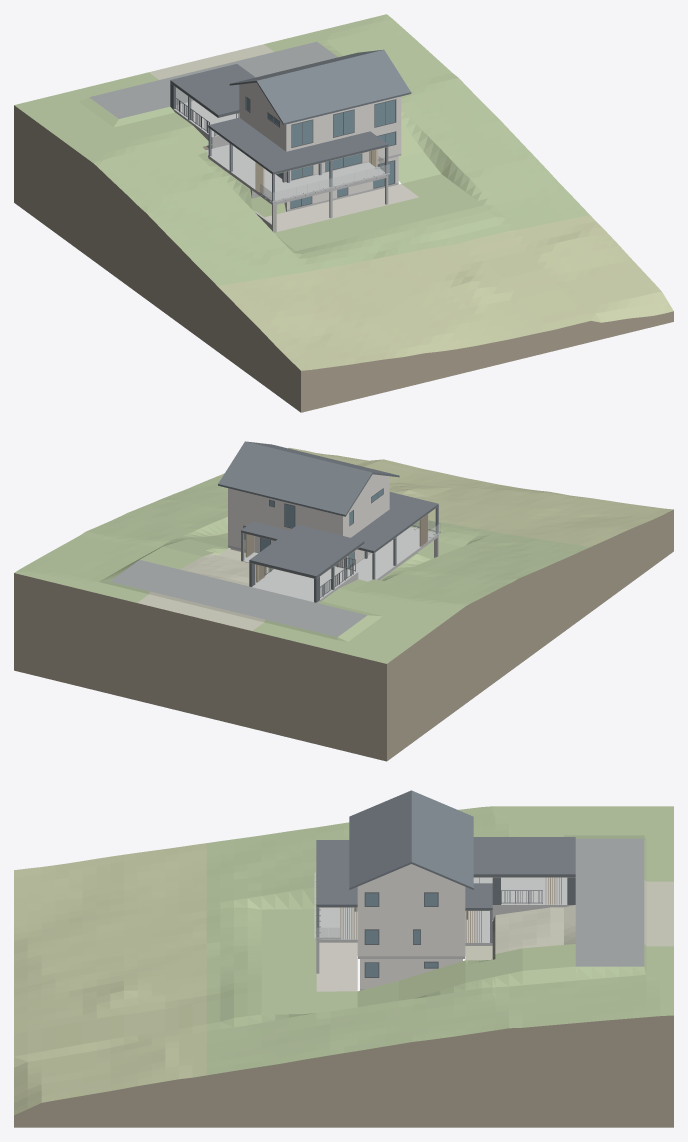
Rendered from Schaffernak_Haus_C.glb.
3 views of the same model, one above another, from view 1: azimuth 30°, elevation 25°; view 2: azimuth 150°, elevation 25°; view 3: azimuth 270°, elevation 25° (orthographic). The views are drawn at different scales.
Visible parts, largest first — view 1: Foto_Gelaende_Rasen_Boeschung, Foto_Gelaende_Hang_unten, Foto_Gelaende_Modellrand, Satteldach_0, Strasse_parallel_zum_Haus_schematisch, Foto_Gelaende_Kies_Kellerbereich, Entwurf_Dach_vorne, Carport_Dach, Balkon_vorne, Foto_Gelaende_Seitliche_Gruenflaeche, Entwurf_Dach_links, Foto_Gelaende_Rueckseite (+3 smaller); view 2: Foto_Gelaende_Modellrand, Foto_Gelaende_Rasen_Boeschung, Foto_Gelaende_Hang_unten, Strasse_parallel_zum_Haus_schematisch, Satteldach_1, Foto_Gelaende_Rueckseite, Carport_Dach, Foto_Gelaende_Seitliche_Gruenflaeche, Carport_Boden, Entwurf_Dach_links, Balkon_links, OG_back_Wand4 (+5 smaller); view 3: Foto_Gelaende_Rasen_Boeschung, Foto_Gelaende_Modellrand, Foto_Gelaende_Hang_unten, Strasse_parallel_zum_Haus_schematisch, Foto_Gelaende_Rueckseite, Foto_Gelaende_Seitliche_Gruenflaeche, Satteldach_0, Satteldach_1, Carport_Dach, Entwurf_Dach_vorne, Foto_Gelaende_Kies_Kellerbereich, Carport_Boden (+9 smaller).
Part boxes in pixels (x1,y1,x2,y2): Foto_Gelaende_Rasen_Boeschung: [14, 14, 589, 285]; Foto_Gelaende_Hang_unten: [217, 215, 673, 370]; Foto_Gelaende_Modellrand: [14, 105, 673, 412]; Satteldach_0: [256, 50, 411, 124]; Strasse_parallel_zum_Haus_schematisch: [89, 41, 337, 118]; Foto_Gelaende_Kies_Kellerbereich: [265, 184, 418, 231]; Entwurf_Dach_vorne: [255, 131, 388, 174]; Carport_Dach: [171, 64, 254, 114]; Balkon_vorne: [255, 162, 388, 205]; Foto_Gelaende_Seitliche_Gruenflaeche: [264, 34, 440, 183]; Entwurf_Dach_links: [208, 117, 285, 160]; Foto_Gelaende_Rueckseite: [149, 44, 273, 79]; Foto_Gelaende_Modellrand: [14, 509, 673, 761]; Foto_Gelaende_Rasen_Boeschung: [14, 476, 589, 663]; Foto_Gelaende_Hang_unten: [218, 447, 673, 546]; Strasse_parallel_zum_Haus_schematisch: [110, 560, 366, 636]; Satteldach_1: [218, 441, 372, 516]; Foto_Gelaende_Rueckseite: [137, 549, 272, 630]; Carport_Dach: [250, 525, 363, 575]; Foto_Gelaende_Seitliche_Gruenflaeche: [97, 533, 229, 602]; Carport_Boden: [252, 569, 352, 602]; Entwurf_Dach_links: [351, 509, 420, 552]; Balkon_links: [351, 540, 420, 580]; OG_back_Wand4: [228, 488, 268, 522]; Foto_Gelaende_Rasen_Boeschung: [206, 806, 673, 1075]; Foto_Gelaende_Modellrand: [14, 1015, 673, 1127]; Foto_Gelaende_Hang_unten: [14, 843, 206, 1115]; Strasse_parallel_zum_Haus_schematisch: [575, 838, 644, 966]; Foto_Gelaende_Rueckseite: [465, 879, 673, 960]; Foto_Gelaende_Seitliche_Gruenflaeche: [357, 944, 673, 1007]; Satteldach_0: [349, 790, 411, 889]; Satteldach_1: [411, 790, 473, 889]; Carport_Dach: [473, 837, 575, 874]; Entwurf_Dach_vorne: [316, 840, 357, 907]; Foto_Gelaende_Kies_Kellerbereich: [316, 942, 357, 991]; Carport_Boden: [492, 877, 573, 906].
Size of the model in its own units: 36 by 16.06 by 48.
